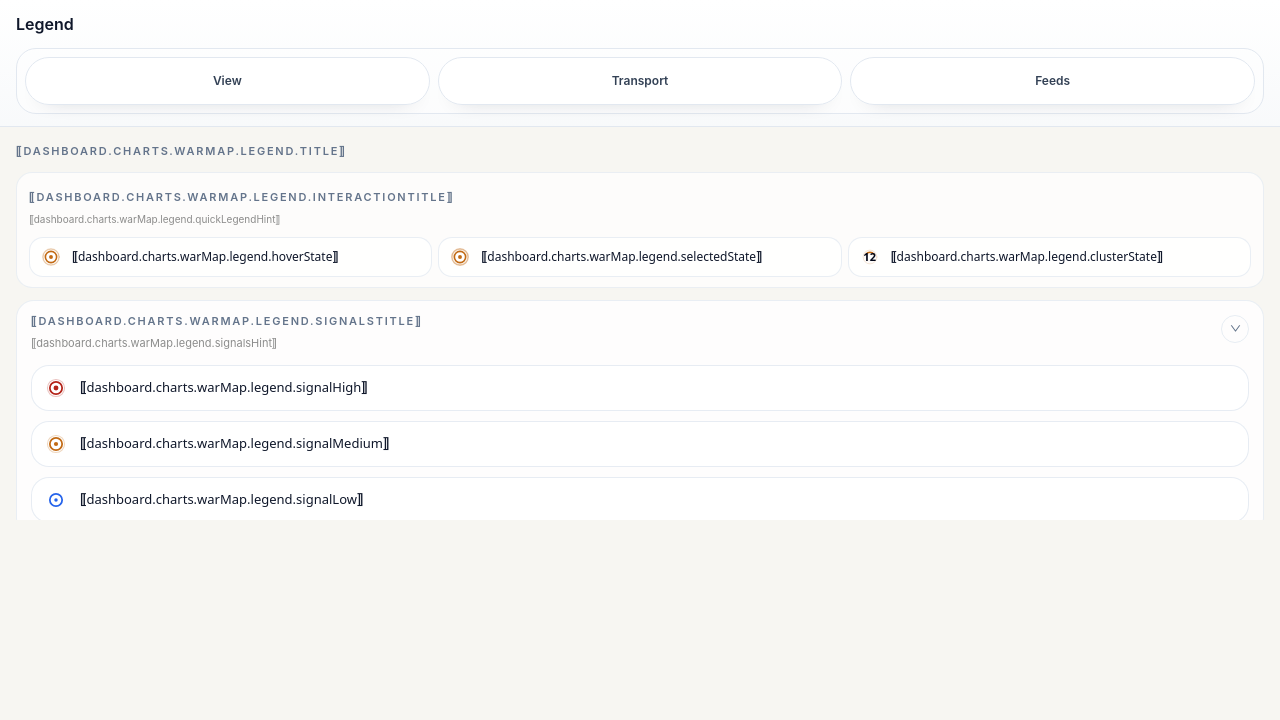
it: WarMapControlsPanel（FE-批4B characterization） › legend 节：section 展开/收起带 aria-expanded 与 aria-controls（a11y 收口）
Expected: the text "⟦dashboard.charts.warMap.legend.signalHigh⟧" is shown, [80, 378, 368, 396]
What coordinates should you click on to do the following:
click the button "⟦dashboard.charts.warMap.legend.signalsTitle⟧"
I would click on:
 (227, 321)
Its box is [31, 313, 1249, 353].
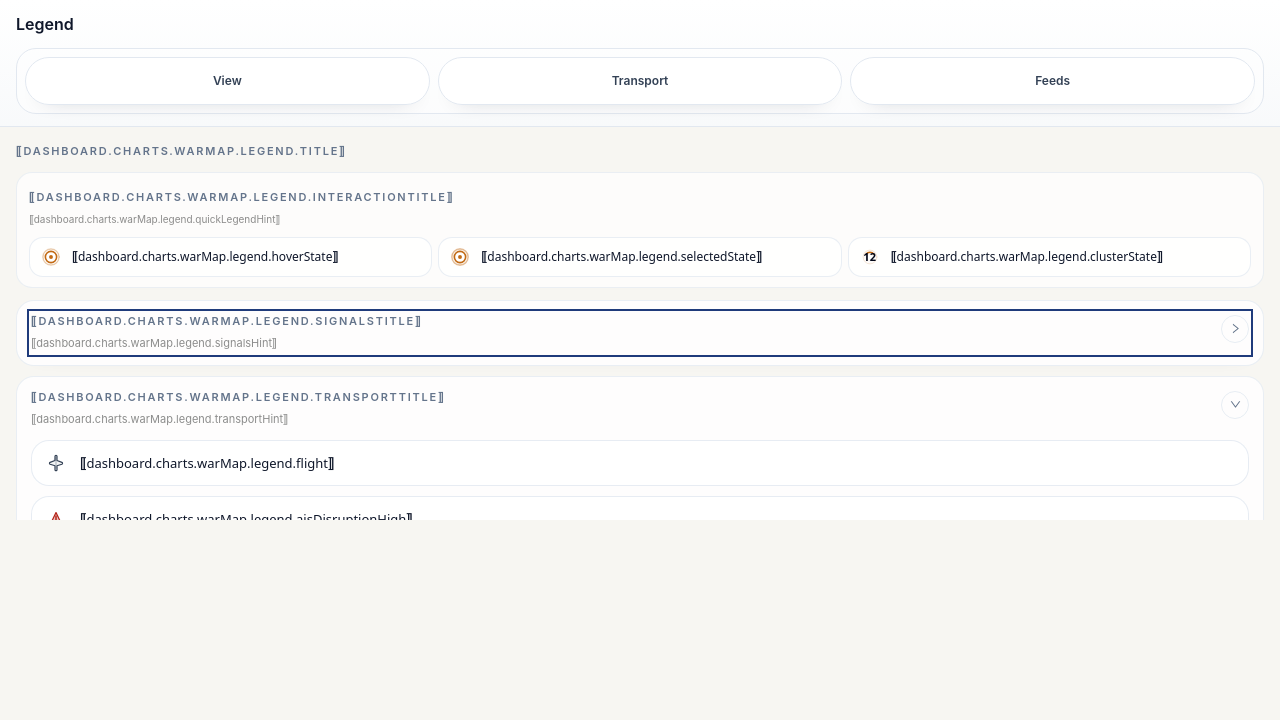
Result: the button "⟦dashboard.charts.warMap.legend.signalsTitle⟧" is collapsed at [31, 313, 1249, 353]
Result: the text "⟦dashboard.charts.warMap.legend.signalHigh⟧" is gone
